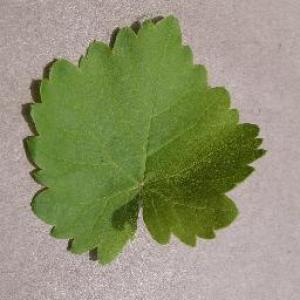Folha: (20, 13, 267, 265)
